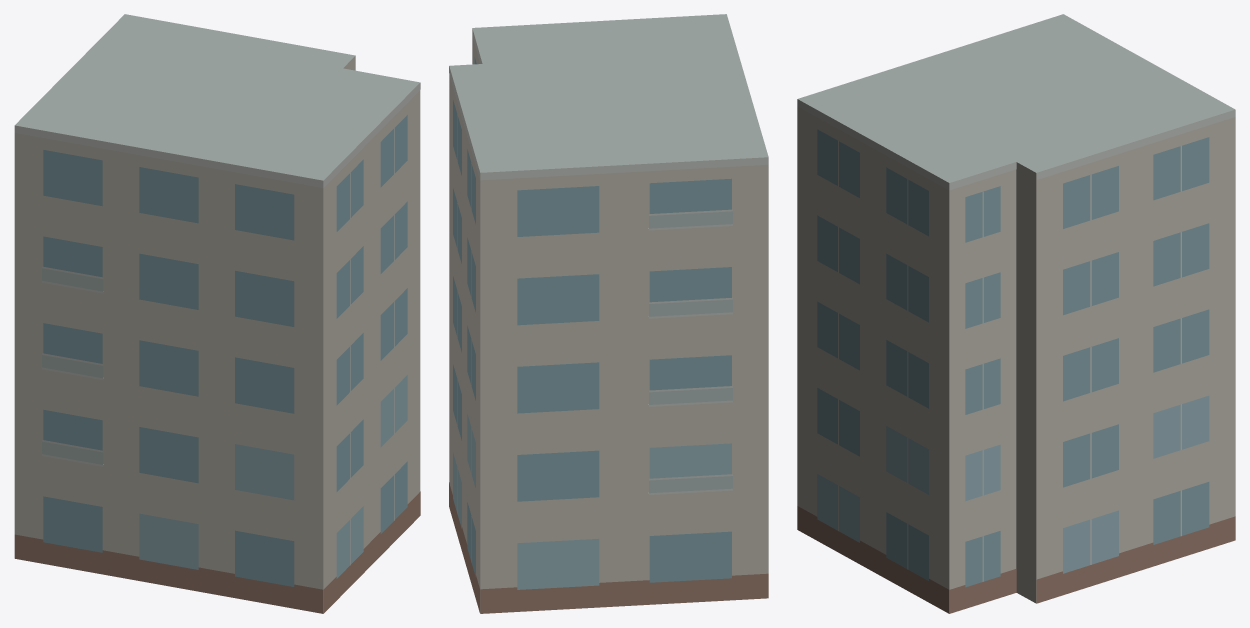
The model's file is survey-upis-32526855.glb.
The picture shows the model from 3 angles, left to right: view 1: azimuth 30°, elevation 25°; view 2: azimuth 150°, elevation 25°; view 3: azimuth 270°, elevation 25°; orthographic projection. The views are drawn at different scales.
Visible parts, largest first — view 1: survey-upis-32526855.tmp; view 2: survey-upis-32526855.tmp; view 3: survey-upis-32526855.tmp.
Part boxes in pixels (x1=…): survey-upis-32526855.tmp: x1=14, y1=14, x2=420, y2=613; survey-upis-32526855.tmp: x1=449, y1=14, x2=768, y2=613; survey-upis-32526855.tmp: x1=797, y1=14, x2=1235, y2=613.
Size of the model in its own units: 12.13 by 14.4 by 13.29.
